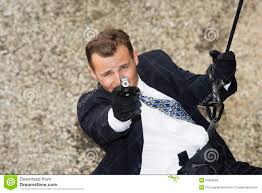Gun: (117, 78, 135, 96)
